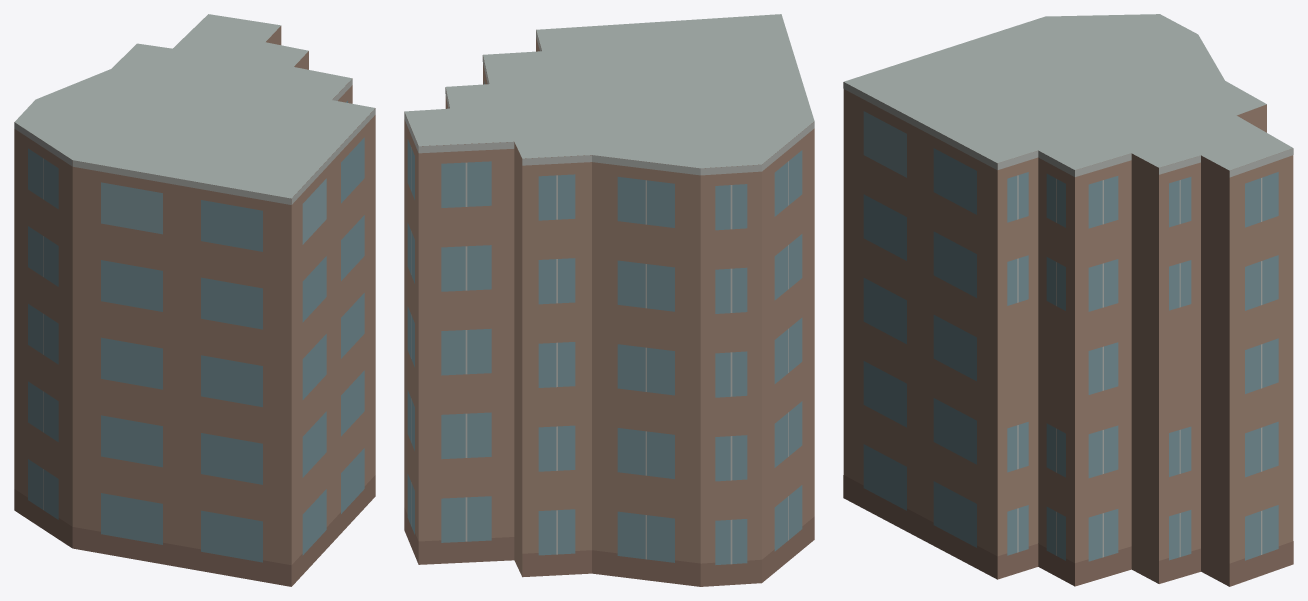
File: survey-upis-33042923.glb
3 renders of one model, left to right at view 1: azimuth 30°, elevation 25°; view 2: azimuth 150°, elevation 25°; view 3: azimuth 270°, elevation 25°, orthographic. The views are drawn at different scales.
Parts seen in each view (by area): view 1: survey-upis-33042923.tmp; view 2: survey-upis-33042923.tmp; view 3: survey-upis-33042923.tmp.
Boxes of the visible parts, left/top/right/bottom form: survey-upis-33042923.tmp: left=14, top=14, right=375, bottom=586; survey-upis-33042923.tmp: left=404, top=14, right=814, bottom=586; survey-upis-33042923.tmp: left=843, top=14, right=1293, bottom=586.
Size of the model in its own units: 11.68 by 14.47 by 14.18.
